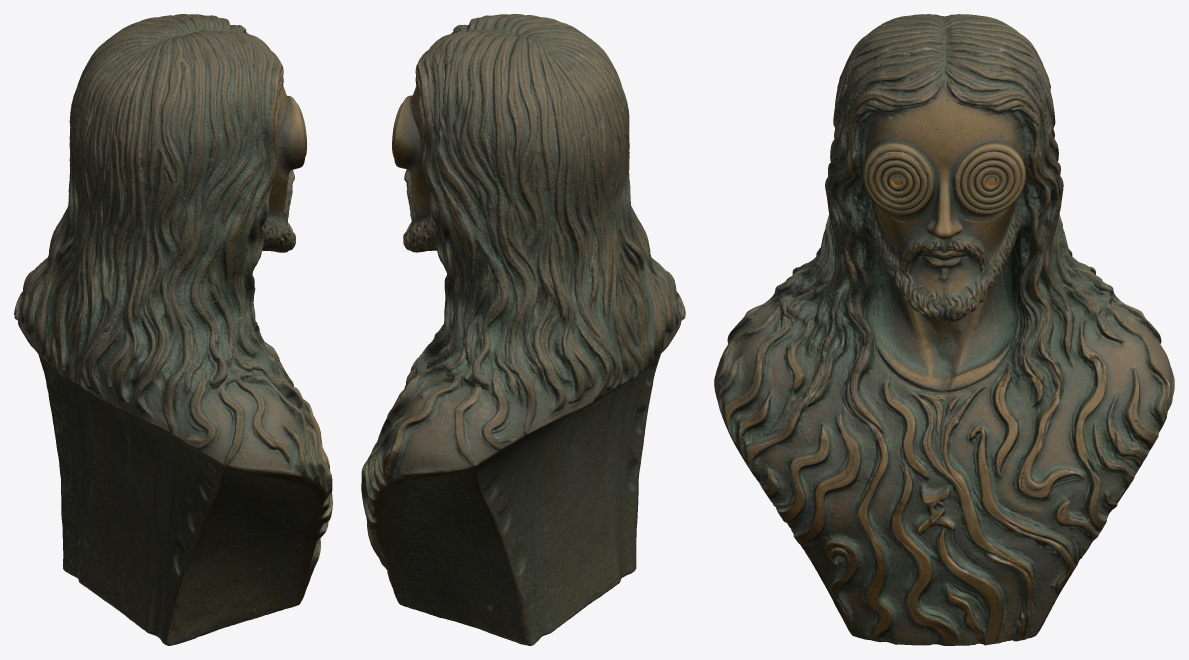
Rendered from jesus_draco.glb.
3 renders of one model, left to right at view 1: azimuth 30°, elevation 25°; view 2: azimuth 150°, elevation 25°; view 3: azimuth 270°, elevation 25°, orthographic. The views are drawn at different scales.
Visible parts, largest first — view 1: tripo_node_ae79853c-9c18-4ccb-bc8a-ff8042ca4ea7; view 2: tripo_node_ae79853c-9c18-4ccb-bc8a-ff8042ca4ea7; view 3: tripo_node_ae79853c-9c18-4ccb-bc8a-ff8042ca4ea7.
Boxes of the visible parts, bbox=[...] form: tripo_node_ae79853c-9c18-4ccb-bc8a-ff8042ca4ea7: bbox=[14, 14, 332, 645]; tripo_node_ae79853c-9c18-4ccb-bc8a-ff8042ca4ea7: bbox=[361, 14, 685, 645]; tripo_node_ae79853c-9c18-4ccb-bc8a-ff8042ca4ea7: bbox=[714, 14, 1174, 645].
Bounding box in the file's own units: 14653 × 32766 × 23697.
1 material, 1 textured.
